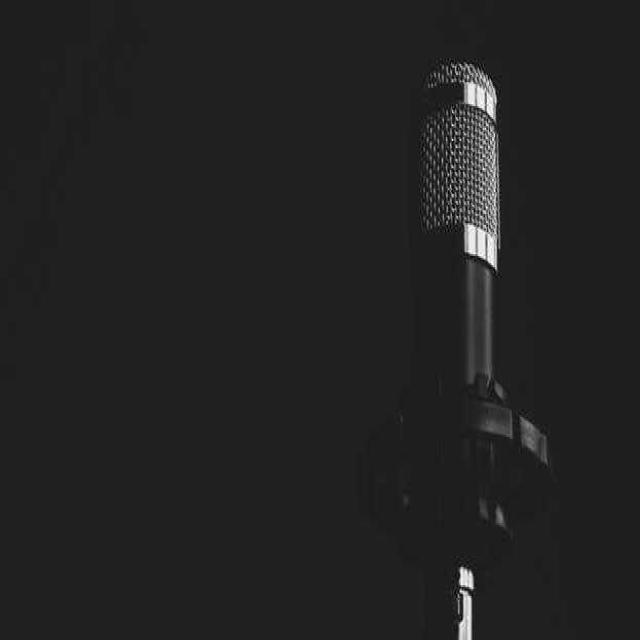microphone: (415, 58, 507, 443)
